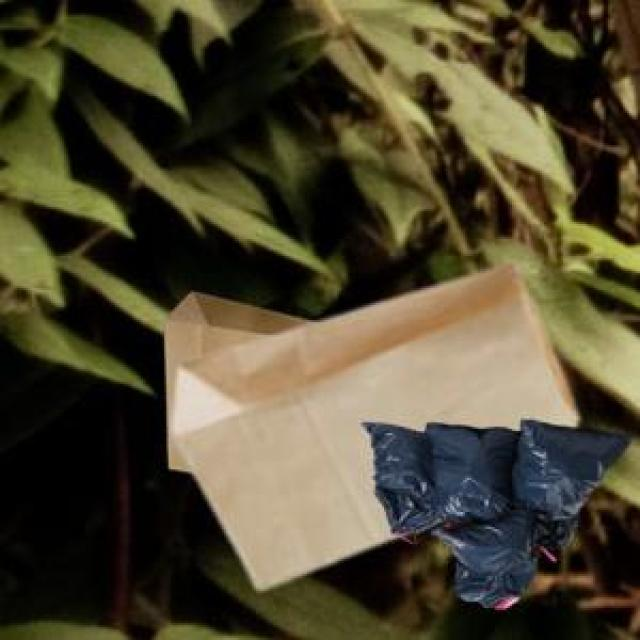miscellaneous trash: (358, 416, 629, 604)
paper: (169, 260, 574, 585), (160, 288, 313, 467)
